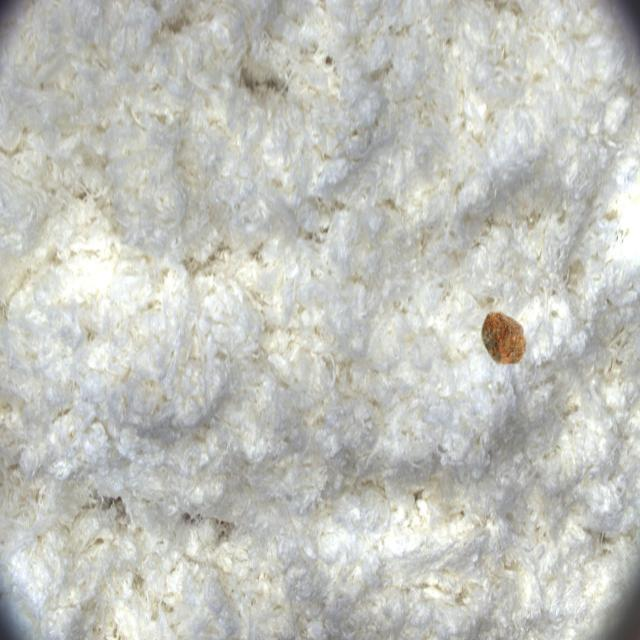dust: (463, 288, 554, 391)
